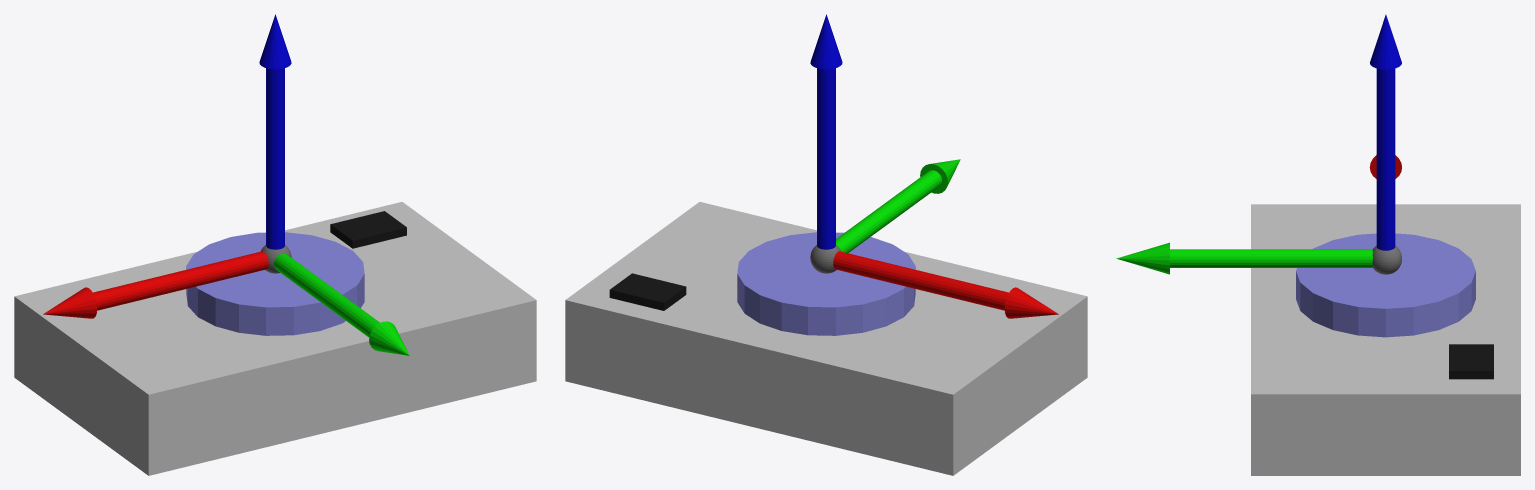
File: camera.obj
3 renders of one model, left to right at view 1: azimuth 30°, elevation 25°; view 2: azimuth 150°, elevation 25°; view 3: azimuth 270°, elevation 25°, orthographic.
Size of the model in its own units: 0.55 by 0.45 by 0.45.
